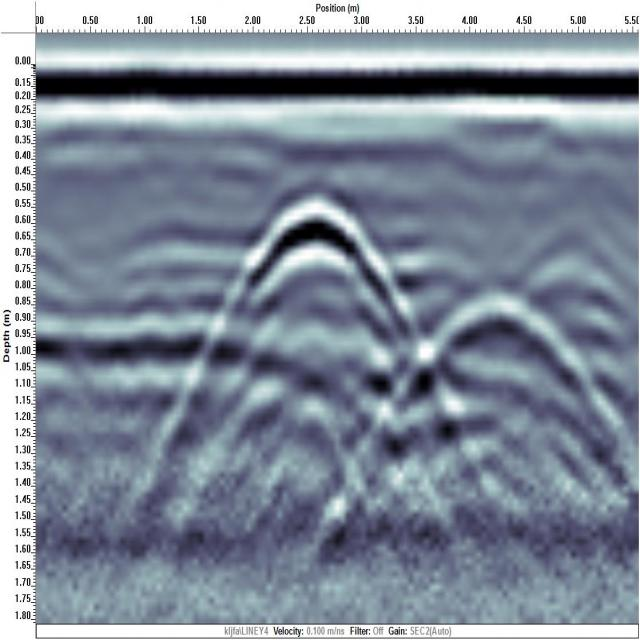hyperbola: (219, 181, 416, 355), (412, 274, 604, 411)
